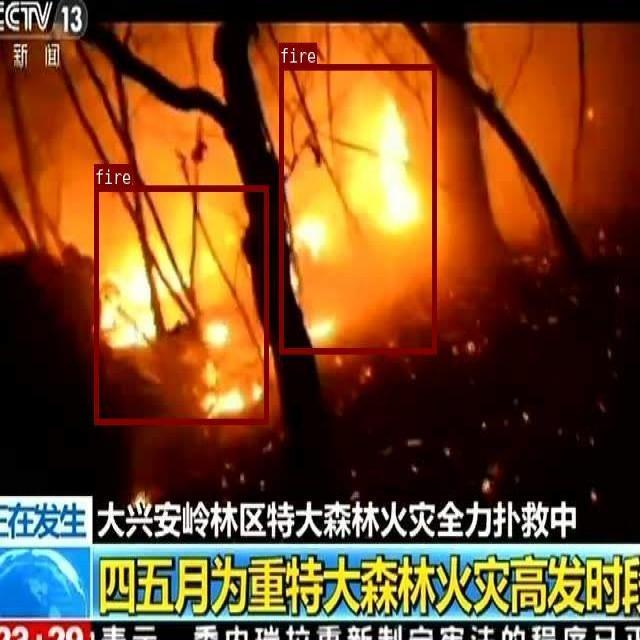fire: (278, 63, 435, 353), (94, 185, 267, 423)
